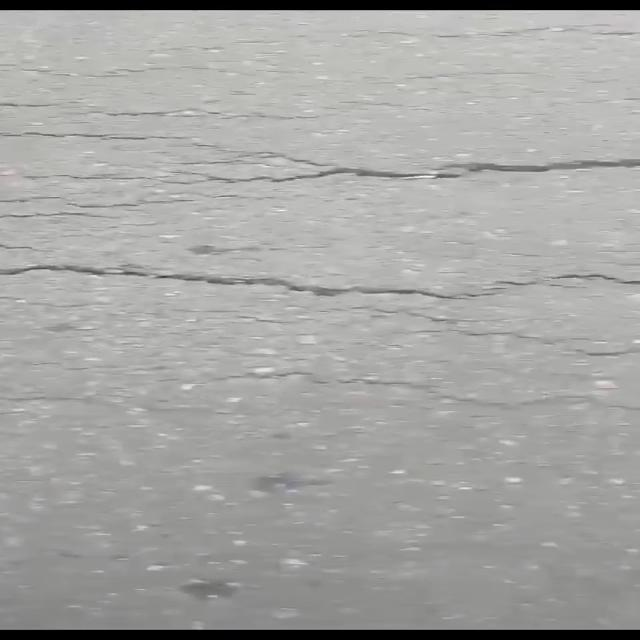Melintang: (0, 252, 640, 317), (197, 141, 640, 192)
